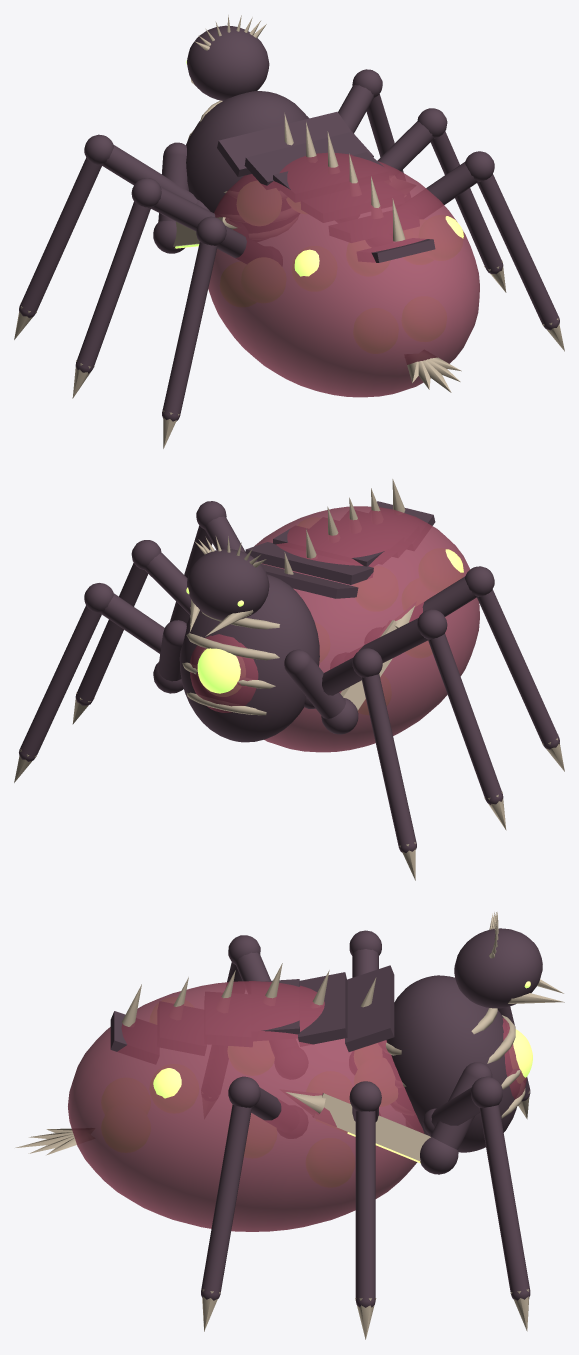
The model's file is grafted-brood-matriarch.glb.
The picture shows the model from 3 angles, top to bottom: view 1: azimuth 30°, elevation 25°; view 2: azimuth 150°, elevation 25°; view 3: azimuth 270°, elevation 25°; orthographic projection. The views are drawn at different scales.
Parts seen in each view (by area): view 1: nest_abdomen, thorax_shell, skull_shell, leg_l_3_lower, leg_l_2_lower, dorsal_plate_1, leg_l_1_lower, leg_r_3_lower, leg_r_2_lower, dorsal_plate_2, leg_l_1_upper, leg_r_2_upper (+15 smaller); view 2: nest_abdomen, thorax_shell, skull_shell, leg_l_1_lower, leg_l_2_lower, leg_l_3_lower, leg_r_1_lower, leg_r_2_lower, dorsal_plate_2, thorax, chest_cavity, scythe_upper_l (+18 smaller); view 3: nest_abdomen, thorax_shell, skull_shell, leg_r_2_lower, leg_r_1_lower, leg_r_3_lower, dorsal_plate_1, dorsal_plate_2, scythe_blade_r, scythe_upper_r, thorax, scythe_elbow_r (+12 smaller).
Part boxes in pixels (bbox=[...]): nest_abdomen: bbox=[208, 152, 479, 397]; thorax_shell: bbox=[186, 91, 307, 212]; skull_shell: bbox=[187, 25, 269, 100]; leg_l_3_lower: bbox=[162, 242, 217, 421]; leg_l_2_lower: bbox=[75, 202, 150, 373]; dorsal_plate_1: bbox=[217, 111, 351, 176]; leg_l_1_lower: bbox=[19, 157, 101, 317]; leg_r_3_lower: bbox=[477, 174, 559, 330]; leg_r_2_lower: bbox=[430, 131, 503, 274]; dorsal_plate_2: bbox=[244, 131, 373, 185]; leg_l_1_upper: bbox=[101, 145, 197, 203]; leg_r_2_upper: bbox=[377, 121, 434, 171]; nest_abdomen: bbox=[254, 506, 479, 752]; thorax_shell: bbox=[179, 574, 319, 742]; skull_shell: bbox=[187, 549, 269, 620]; leg_l_1_lower: bbox=[361, 674, 416, 852]; leg_l_2_lower: bbox=[428, 633, 503, 805]; leg_l_3_lower: bbox=[477, 589, 559, 749]; leg_r_1_lower: bbox=[19, 605, 101, 761]; leg_r_2_lower: bbox=[75, 563, 147, 705]; dorsal_plate_2: bbox=[245, 542, 373, 584]; thorax: bbox=[182, 611, 279, 715]; chest_cavity: bbox=[190, 634, 258, 712]; scythe_upper_l: bbox=[284, 649, 345, 718]; nest_abdomen: bbox=[68, 981, 424, 1231]; thorax_shell: bbox=[386, 975, 516, 1152]; skull_shell: bbox=[454, 928, 542, 1008]; leg_r_2_lower: bbox=[355, 1111, 375, 1307]; leg_r_1_lower: bbox=[479, 1105, 530, 1300]; leg_r_3_lower: bbox=[201, 1105, 251, 1300]; dorsal_plate_1: bbox=[345, 965, 394, 1051]; dorsal_plate_2: bbox=[298, 972, 347, 1044]; scythe_blade_r: bbox=[322, 1093, 430, 1161]; scythe_upper_r: bbox=[431, 1062, 492, 1149]; thorax: bbox=[386, 1008, 525, 1118]; scythe_elbow_r: bbox=[420, 1136, 458, 1174].
Size of the model in its own units: 6.94 by 4.4 by 7.05.
